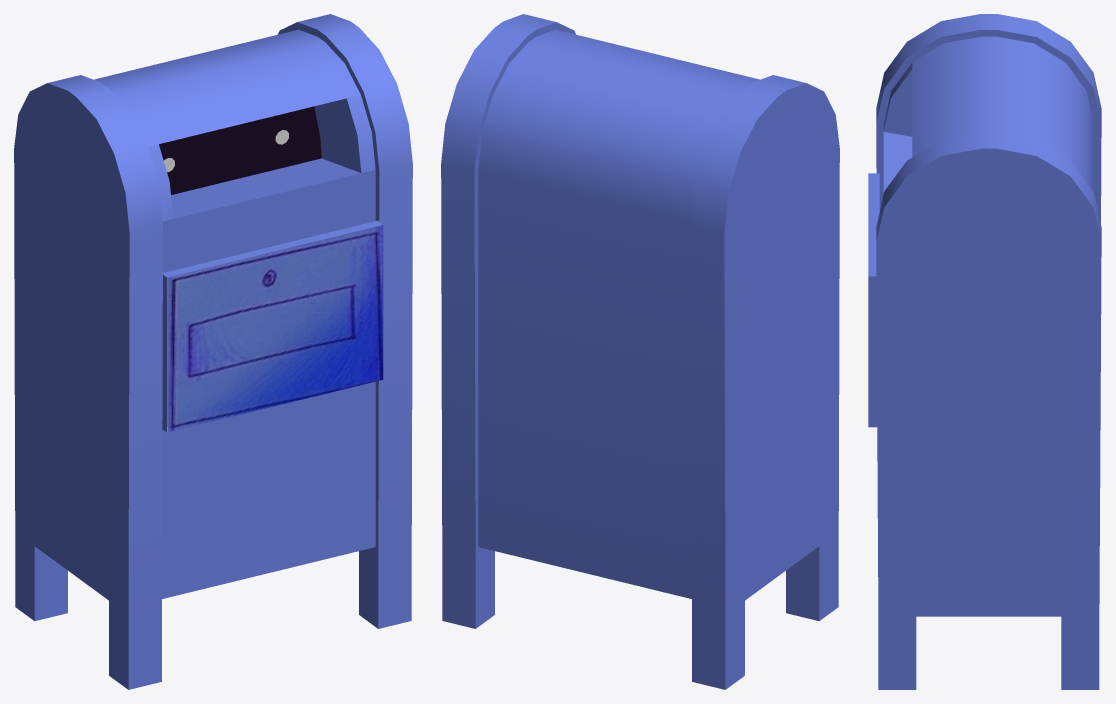
The model's file is mailbox.fbx.
The picture shows the model from 3 angles, left to right: view 1: azimuth 30°, elevation 25°; view 2: azimuth 150°, elevation 25°; view 3: azimuth 270°, elevation 25°; orthographic projection. The views are drawn at different scales.
Parts seen in each view (by area): view 1: Cube, Cube.001; view 2: Cube; view 3: Cube, Cube.001.
Boxes of the visible parts, x1,y1,x2,y2 form: Cube: (14, 14, 412, 689); Cube.001: (162, 220, 383, 432); Cube: (441, 14, 839, 689); Cube: (876, 14, 1101, 689); Cube.001: (868, 173, 879, 427).
Size of the model in its own units: 303 by 567 by 222.
